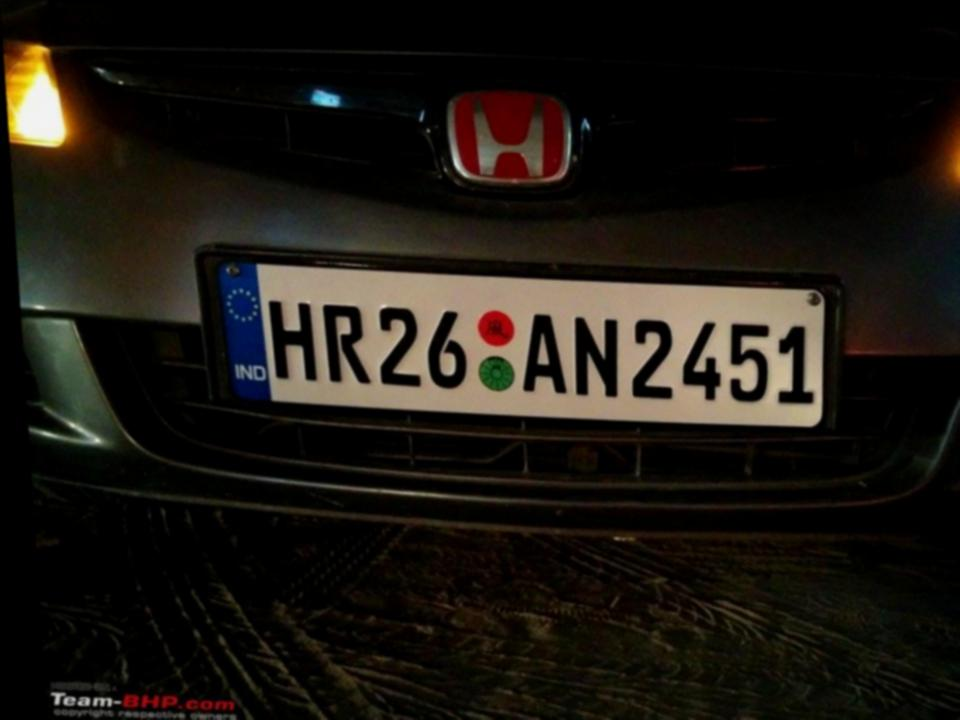License_Plate: (195, 233, 852, 453)
